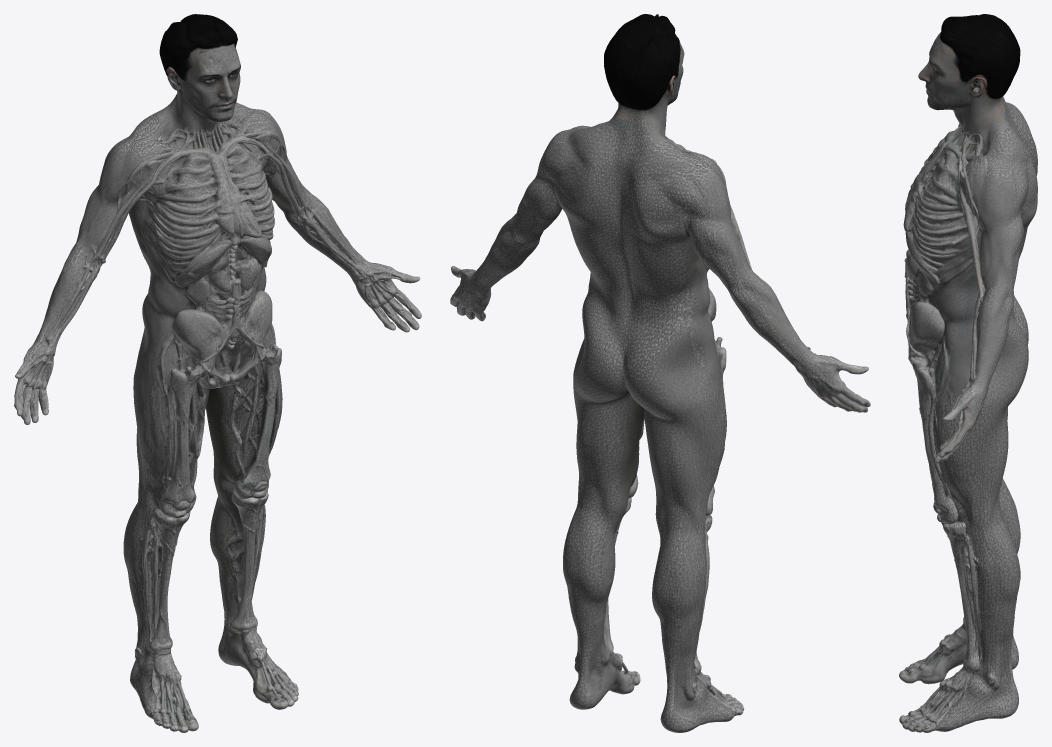
Rendered from anatomy.glb.
3 renders of one model, left to right at view 1: azimuth 30°, elevation 25°; view 2: azimuth 150°, elevation 25°; view 3: azimuth 270°, elevation 25°, orthographic. The views are drawn at different scales.
Parts seen in each view (by area): view 1: tripo_part_0, tripo_part_4, tripo_part_3, tripo_part_2, tripo_part_7, tripo_part_1, tripo_part_13, tripo_part_12, tripo_part_5, tripo_part_15, tripo_part_6, tripo_part_10 (+9 smaller); view 2: tripo_part_0, tripo_part_3, tripo_part_1, tripo_part_8, tripo_part_7, tripo_part_2, tripo_part_10, tripo_part_21, tripo_part_5, tripo_part_9, tripo_part_6, tripo_part_17 (+2 smaller); view 3: tripo_part_0, tripo_part_1, tripo_part_7, tripo_part_2, tripo_part_4, tripo_part_6, tripo_part_9, tripo_part_18, tripo_part_11, tripo_part_5, tripo_part_14, tripo_part_13 (+5 smaller).
Part boxes in pixels (left/top/right/bottom): tripo_part_0: left=97, top=89, right=286, bottom=318; tripo_part_4: left=153, top=131, right=274, bottom=268; tripo_part_3: left=133, top=295, right=209, bottom=510; tripo_part_2: left=159, top=14, right=240, bottom=121; tripo_part_7: left=210, top=479, right=268, bottom=634; tripo_part_1: left=206, top=323, right=282, bottom=512; tripo_part_13: left=185, top=264, right=264, bottom=363; tripo_part_12: left=142, top=508, right=190, bottom=653; tripo_part_5: left=130, top=649, right=198, bottom=732; tripo_part_15: left=175, top=236, right=271, bottom=292; tripo_part_6: left=218, top=617, right=298, bottom=709; tripo_part_10: left=33, top=198, right=133, bottom=352; tripo_part_0: left=535, top=95, right=732, bottom=357; tripo_part_3: left=623, top=311, right=726, bottom=542; tripo_part_1: left=573, top=307, right=644, bottom=534; tripo_part_8: left=652, top=527, right=707, bottom=700; tripo_part_7: left=563, top=480, right=638, bottom=673; tripo_part_2: left=604, top=14, right=684, bottom=110; tripo_part_10: left=730, top=209, right=816, bottom=370; tripo_part_21: left=689, top=158, right=752, bottom=299; tripo_part_5: left=660, top=672, right=743, bottom=732; tripo_part_9: left=495, top=177, right=561, bottom=258; tripo_part_6: left=569, top=651, right=640, bottom=709; tripo_part_17: left=796, top=353, right=868, bottom=399; tripo_part_0: left=920, top=89, right=1037, bottom=332; tripo_part_1: left=926, top=325, right=1028, bottom=543; tripo_part_7: left=933, top=502, right=1020, bottom=689; tripo_part_2: left=925, top=14, right=1020, bottom=111; tripo_part_4: left=903, top=126, right=965, bottom=268; tripo_part_6: left=899, top=665, right=1018, bottom=732; tripo_part_9: left=957, top=160, right=1023, bottom=326; tripo_part_18: left=908, top=303, right=955, bottom=509; tripo_part_11: left=964, top=271, right=1008, bottom=400; tripo_part_5: left=899, top=624, right=1018, bottom=684; tripo_part_14: left=936, top=385, right=986, bottom=455; tripo_part_13: left=904, top=258, right=934, bottom=332.
Bounding box in the file's own units: 1.12 × 1.8 × 0.3303.
Materials: 41 (41 with a texture image).
